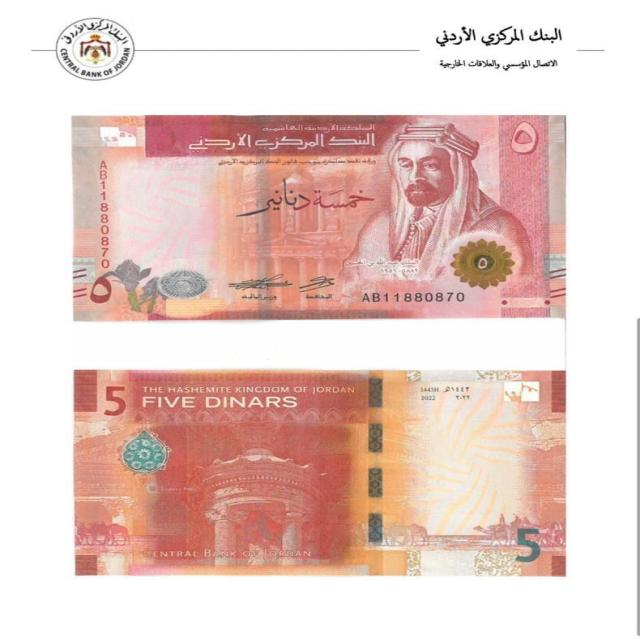5-dinar: (67, 114, 571, 320), (71, 371, 570, 574)
